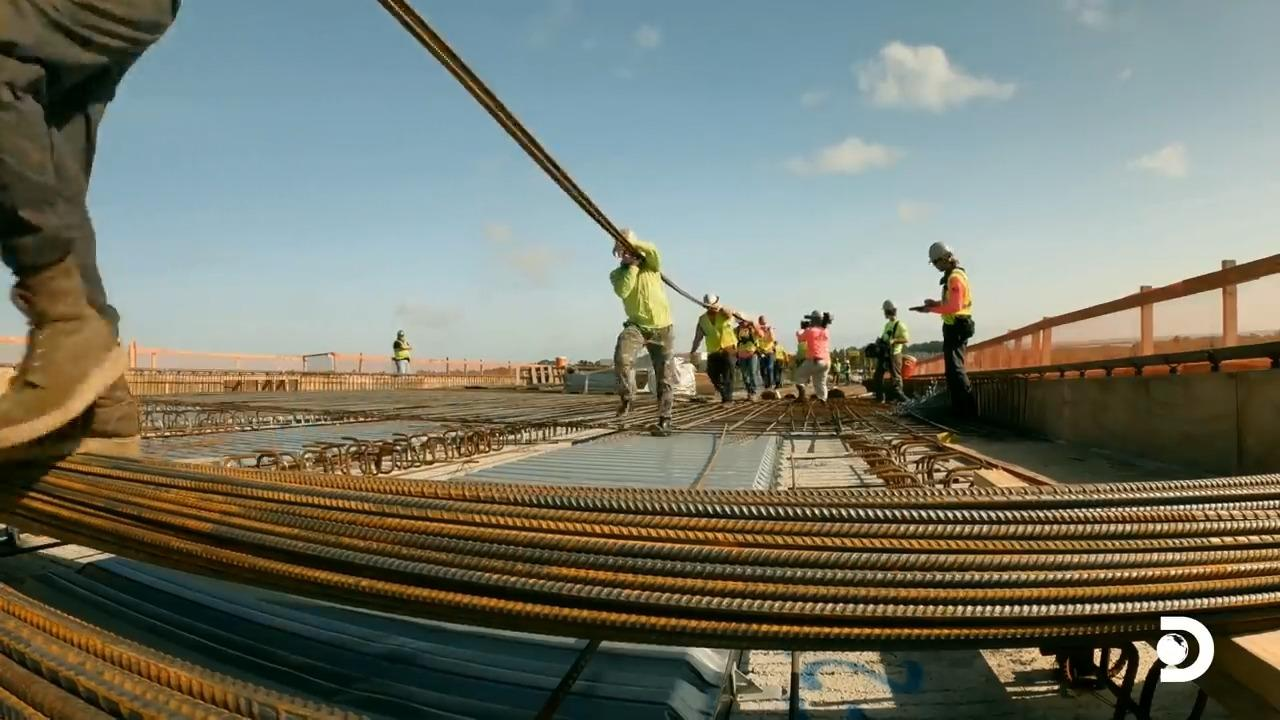Helmet: (612, 227, 638, 256), (928, 241, 953, 263), (702, 293, 719, 308), (881, 299, 895, 312), (812, 309, 827, 319)
Person: (0, 0, 181, 464), (609, 227, 677, 436), (908, 240, 977, 419), (871, 299, 909, 404), (800, 310, 836, 398), (737, 310, 757, 402), (758, 312, 779, 395), (391, 329, 411, 374)
Safety Boot: (18, 275, 140, 434)
Safety Vest: (621, 278, 667, 324), (942, 274, 969, 320), (704, 317, 735, 352), (884, 323, 903, 351), (741, 329, 758, 356)
no-vest: (805, 328, 827, 360)
